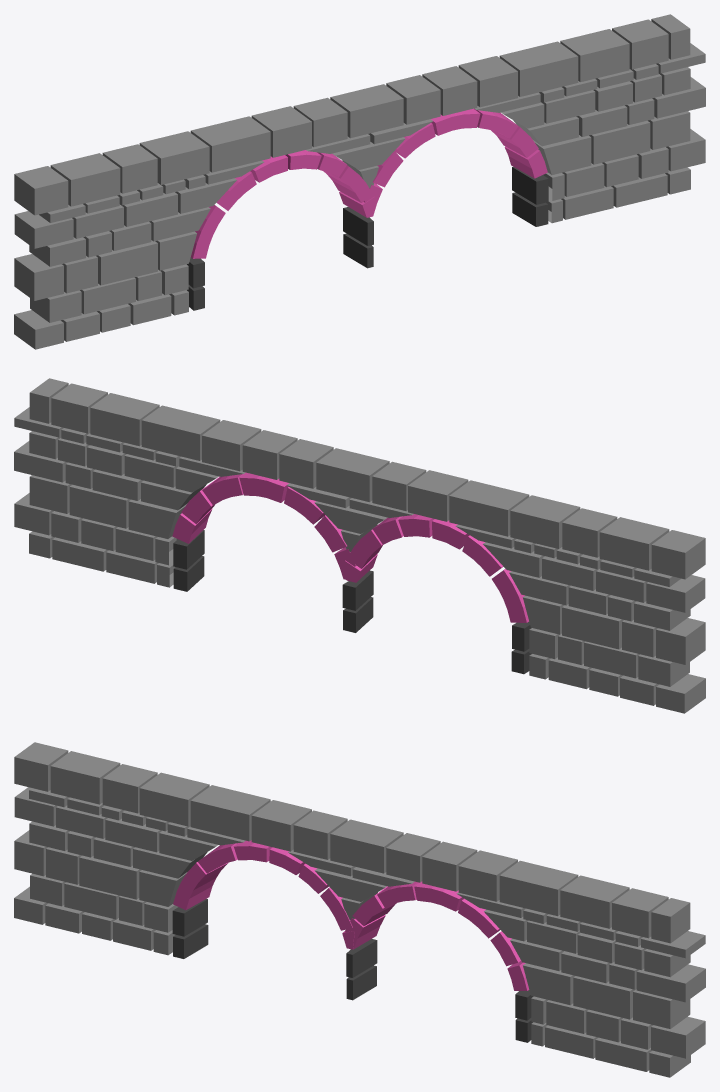
Rendered from Academy_Labari_Puerta.fbx.
3 views of the same model, one above another, from view 1: azimuth 30°, elevation 25°; view 2: azimuth 150°, elevation 25°; view 3: azimuth 330°, elevation 25° (orthographic).
Parts seen in each view (by area): view 1: Wall.011; view 2: Wall.011; view 3: Wall.011.
Part boxes in pixels (x1,y1,x2,y2): Wall.011: (14, 14, 705, 349); Wall.011: (14, 378, 705, 713); Wall.011: (14, 742, 705, 1077).
Size of the model in its own units: 1194 by 273 by 66.14.
